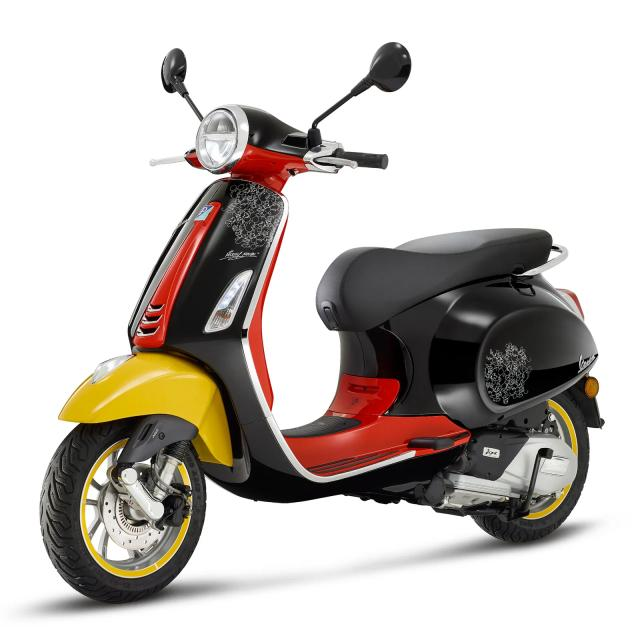Bike: (38, 43, 605, 606)
